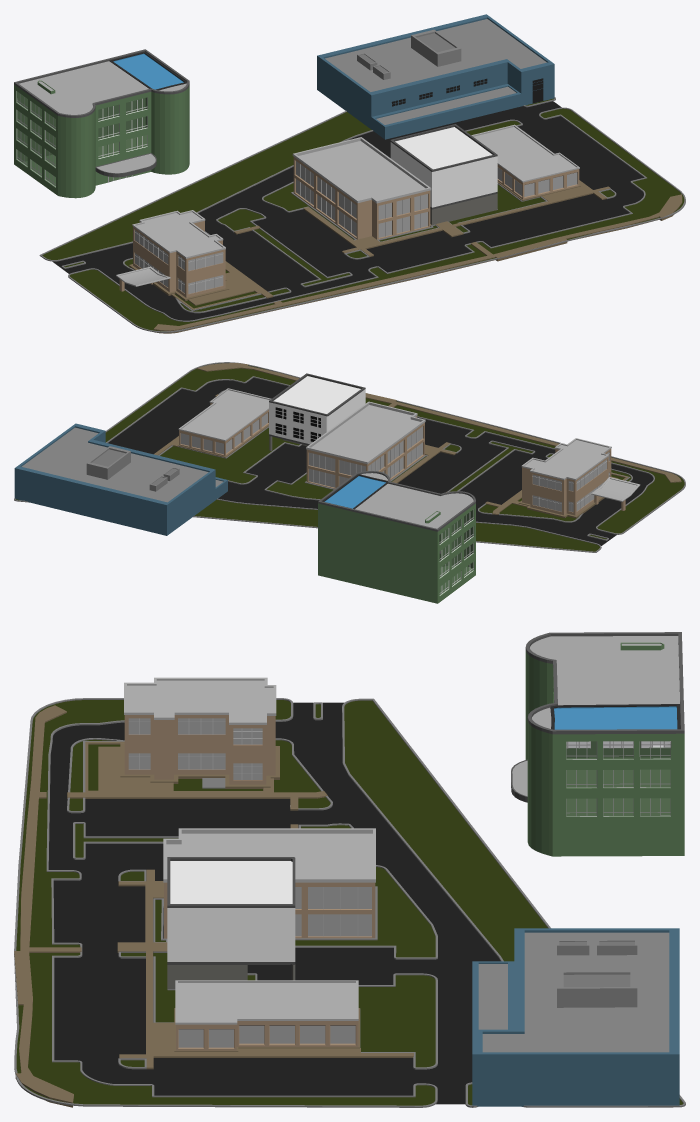
The picture shows the model from 3 angles, top to bottom: view 1: azimuth 30°, elevation 25°; view 2: azimuth 150°, elevation 25°; view 3: azimuth 270°, elevation 25°; orthographic projection. The views are drawn at different scales.
Parts seen in each view (by area): view 1: body, building5, building4, building2, building6, building3, building1; view 2: body, building5, building4, building2, building3, building6, building1; view 3: body, building5, building4, building6, building3, building2, building1.
Boxes of the visible parts, x1=… form: body: x1=39, y1=97, x2=685, y2=333; building5: x1=14, y1=49, x2=189, y2=198; building4: x1=317, y1=14, x2=554, y2=139; building2: x1=292, y1=137, x2=431, y2=239; building6: x1=390, y1=124, x2=497, y2=225; building3: x1=132, y1=210, x2=225, y2=297; building1: x1=471, y1=124, x2=579, y2=199; body: x1=14, y1=362, x2=685, y2=552; building5: x1=318, y1=471, x2=475, y2=603; building4: x1=14, y1=423, x2=227, y2=535; building2: x1=306, y1=401, x2=425, y2=488; building3: x1=521, y1=438, x2=611, y2=515; building6: x1=269, y1=373, x2=365, y2=450; building1: x1=178, y1=388, x2=271, y2=456; body: x1=14, y1=698, x2=685, y2=1107; building5: x1=511, y1=632, x2=684, y2=856; building4: x1=472, y1=928, x2=679, y2=1106; building6: x1=167, y1=857, x2=295, y2=989; building3: x1=124, y1=677, x2=276, y2=784; building2: x1=163, y1=828, x2=375, y2=938; building1: x1=175, y1=980, x2=358, y2=1050.
Size of the model in its own units: 175 by 25.79 by 122.
